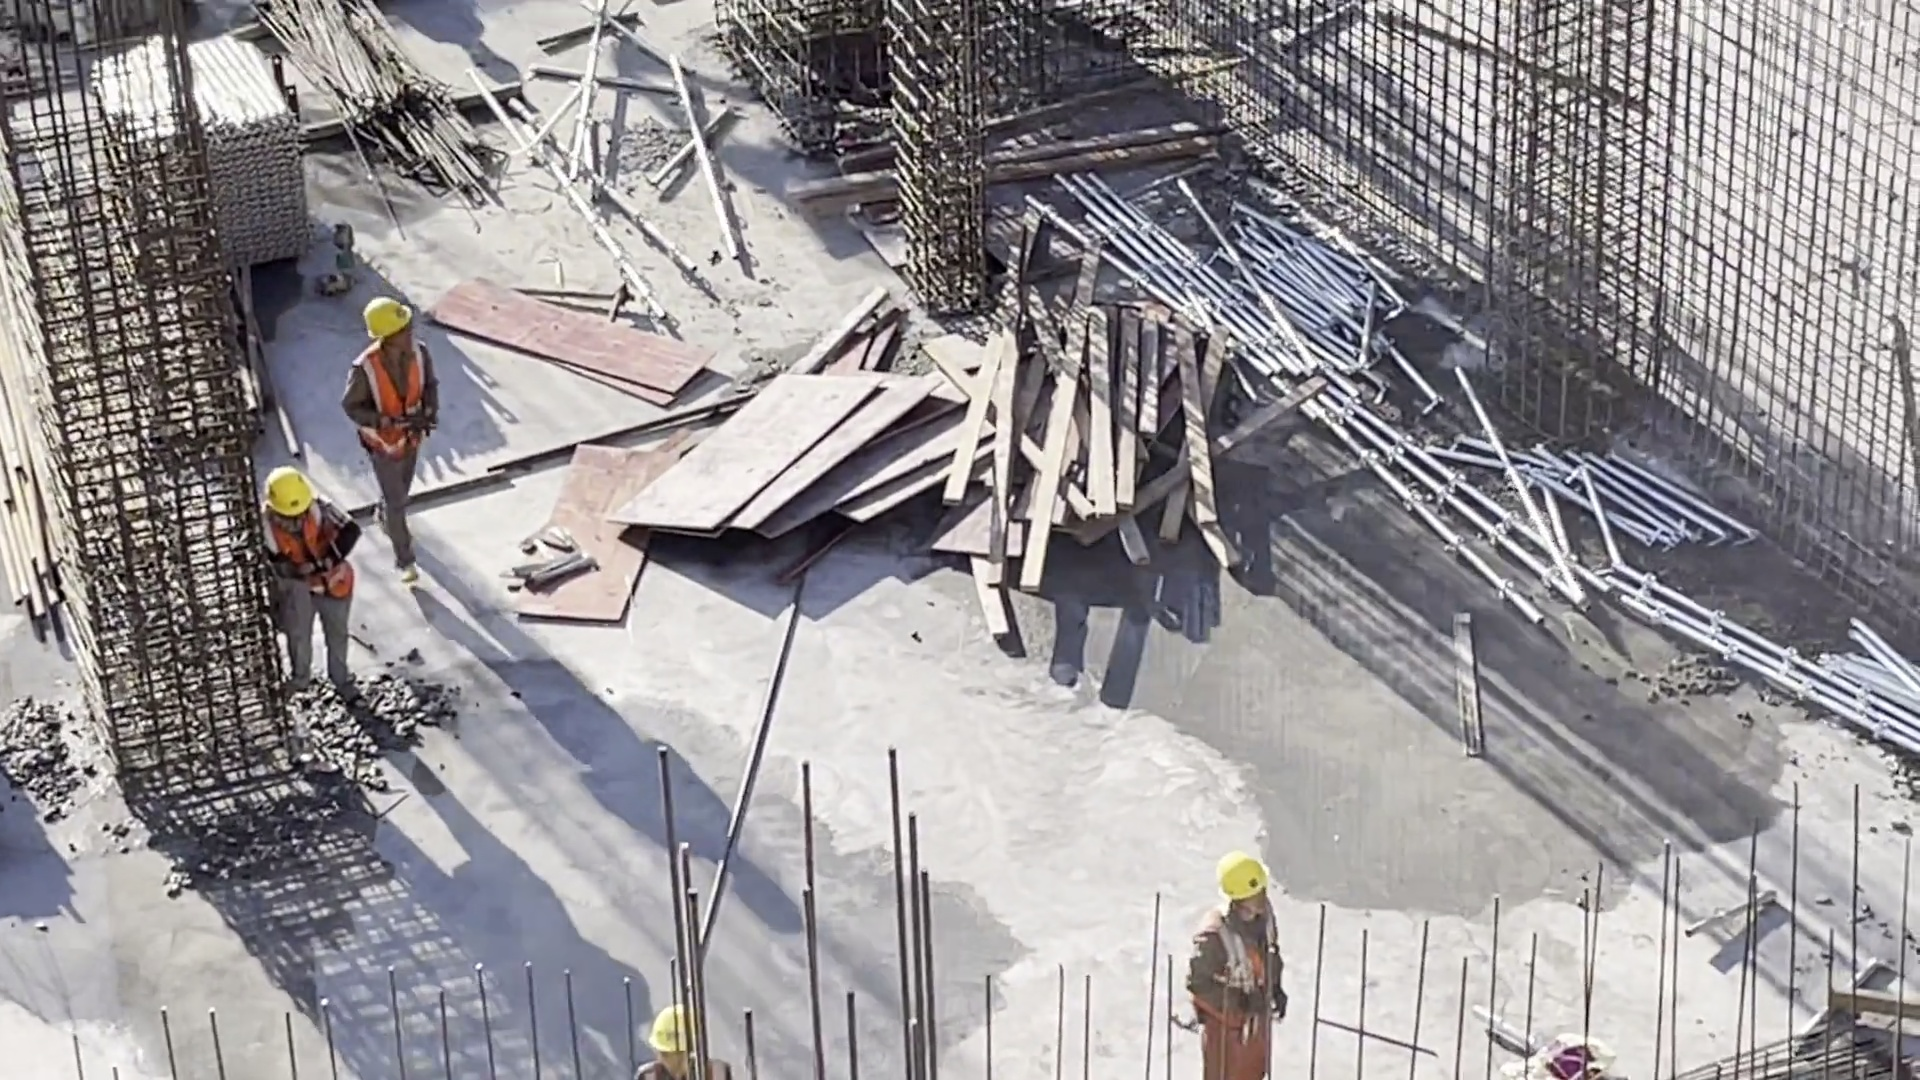board: (625, 368, 953, 535)
helmet: (355, 291, 419, 337), (655, 998, 707, 1052), (1221, 846, 1275, 898), (269, 467, 321, 519)
person: (345, 302, 469, 624), (247, 457, 370, 722), (1181, 849, 1296, 1080), (615, 1004, 729, 1080)
scaffold: (91, 31, 326, 302), (1110, 157, 1361, 362), (1488, 412, 1715, 579)
vest: (1191, 901, 1279, 1037), (342, 343, 437, 450), (262, 505, 360, 599)
wood: (968, 323, 1206, 571)
